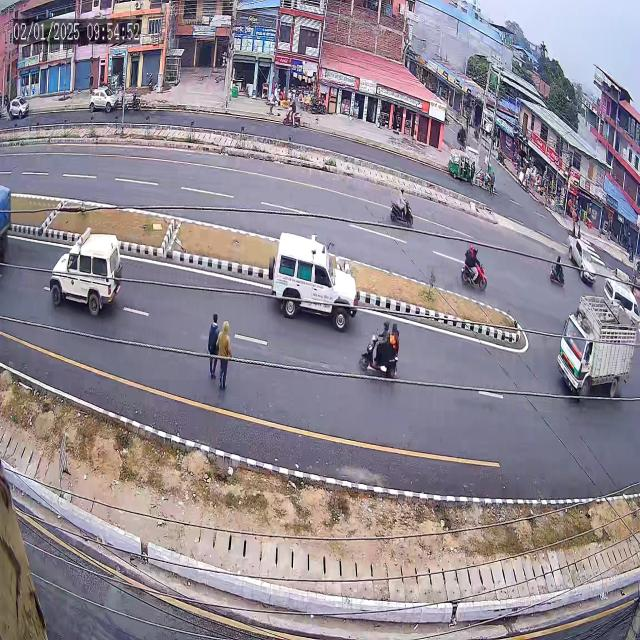car: (260, 219, 366, 341), (37, 220, 137, 335), (564, 228, 598, 290)
motorcycle: (350, 310, 411, 387), (454, 234, 496, 298), (387, 180, 422, 234), (545, 246, 571, 296)
truck: (552, 288, 640, 413)
